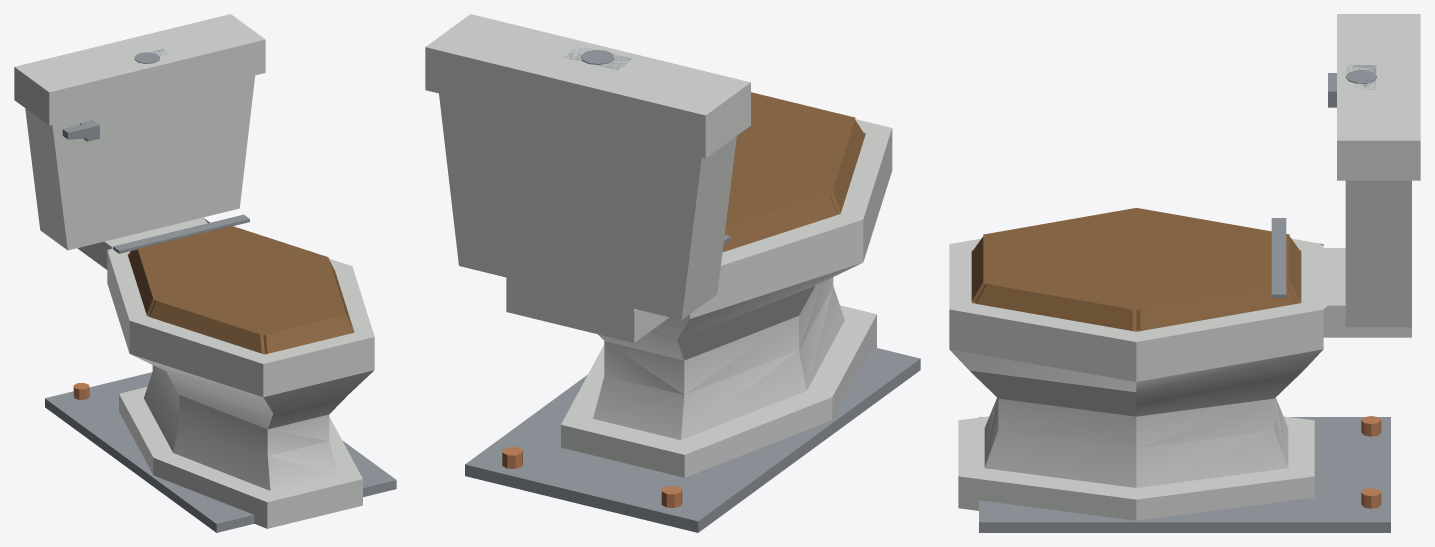
Rendered from toilet.glb.
The picture shows the model from 3 angles, left to right: view 1: azimuth 30°, elevation 25°; view 2: azimuth 150°, elevation 25°; view 3: azimuth 270°, elevation 25°; orthographic projection. The views are drawn at different scales.
Visible parts, largest first — view 1: toilet(Clone), cover; view 2: toilet(Clone), cover; view 3: toilet(Clone), cover.
Part boxes in pixels (<box>): toilet(Clone): <box>14,14,396,532</box>; cover: <box>113,214,354,354</box>; toilet(Clone): <box>425,14,920,532</box>; cover: <box>722,92,865,251</box>; toilet(Clone): <box>949,14,1420,532</box>; cover: <box>971,208,1301,331</box>.
Size of the model in its own units: 0.3126 by 0.451 by 0.4772.
